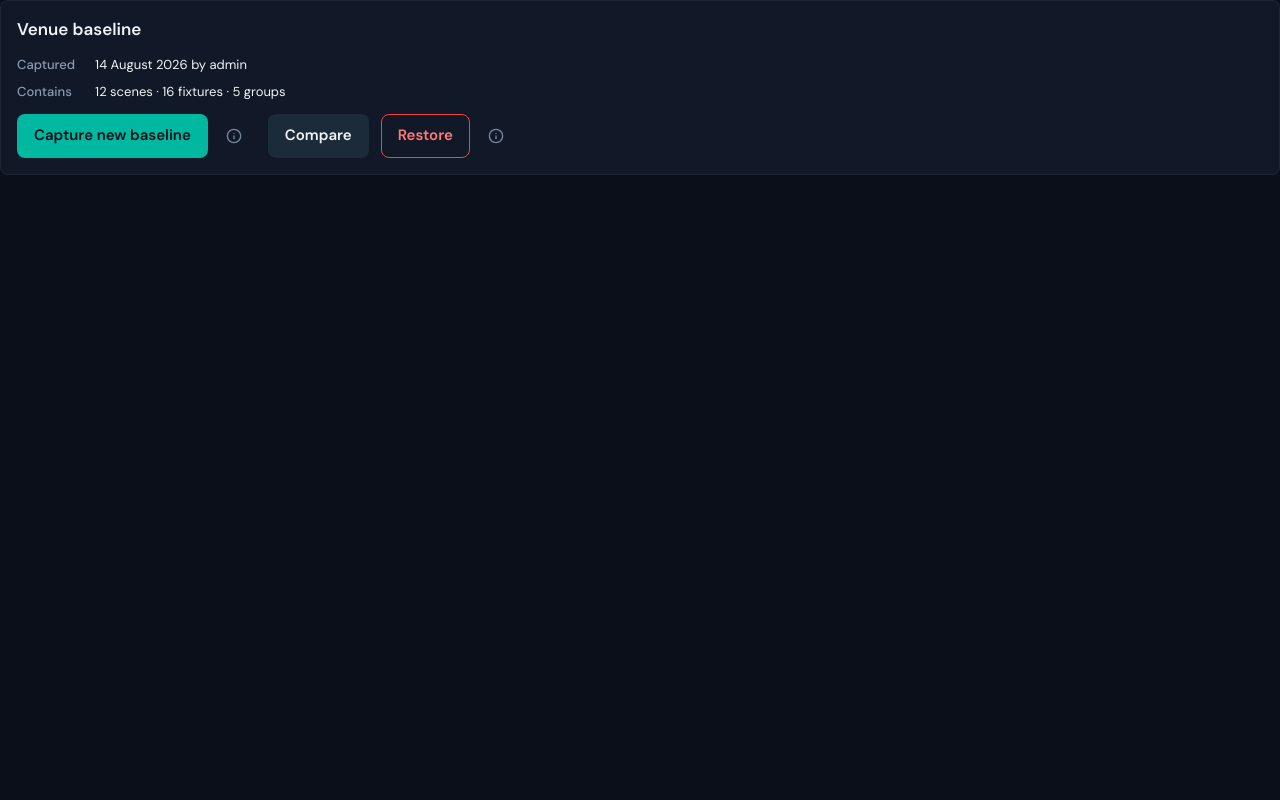
it: BaselineCard — Restore's confirmation and reversibility › explains what it applies and that a snapshot makes it reversible, before doing anything
The width and height of the screenshot is (1280, 800).
Click the button "Restore" at point(425, 136), box x1=381 y1=114 x2=470 y2=158
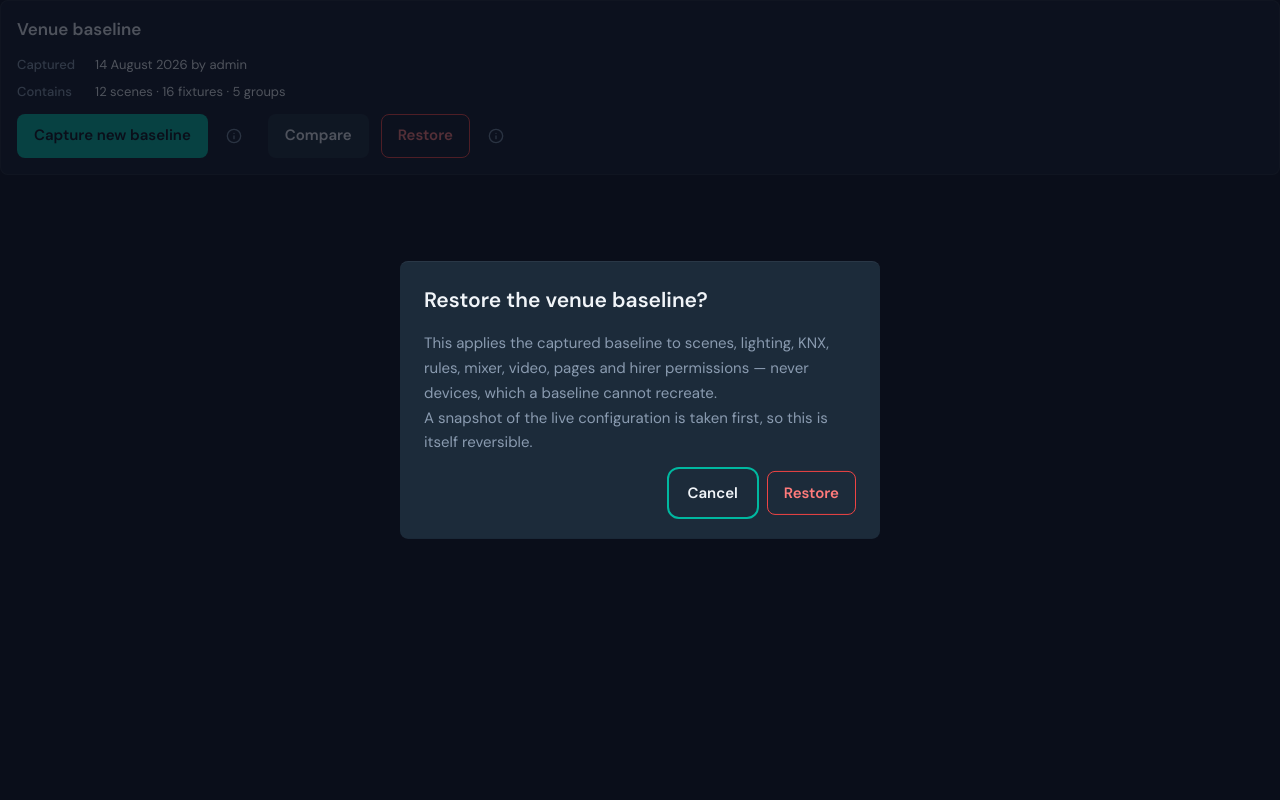
Now the dialog shows "never devices", box x1=424 y1=333 x2=829 y2=403
Now the dialog shows "itself reversible", box x1=424 y1=408 x2=828 y2=452
Click the button "Restore" at point(811, 493), box x1=767 y1=471 x2=856 y2=515
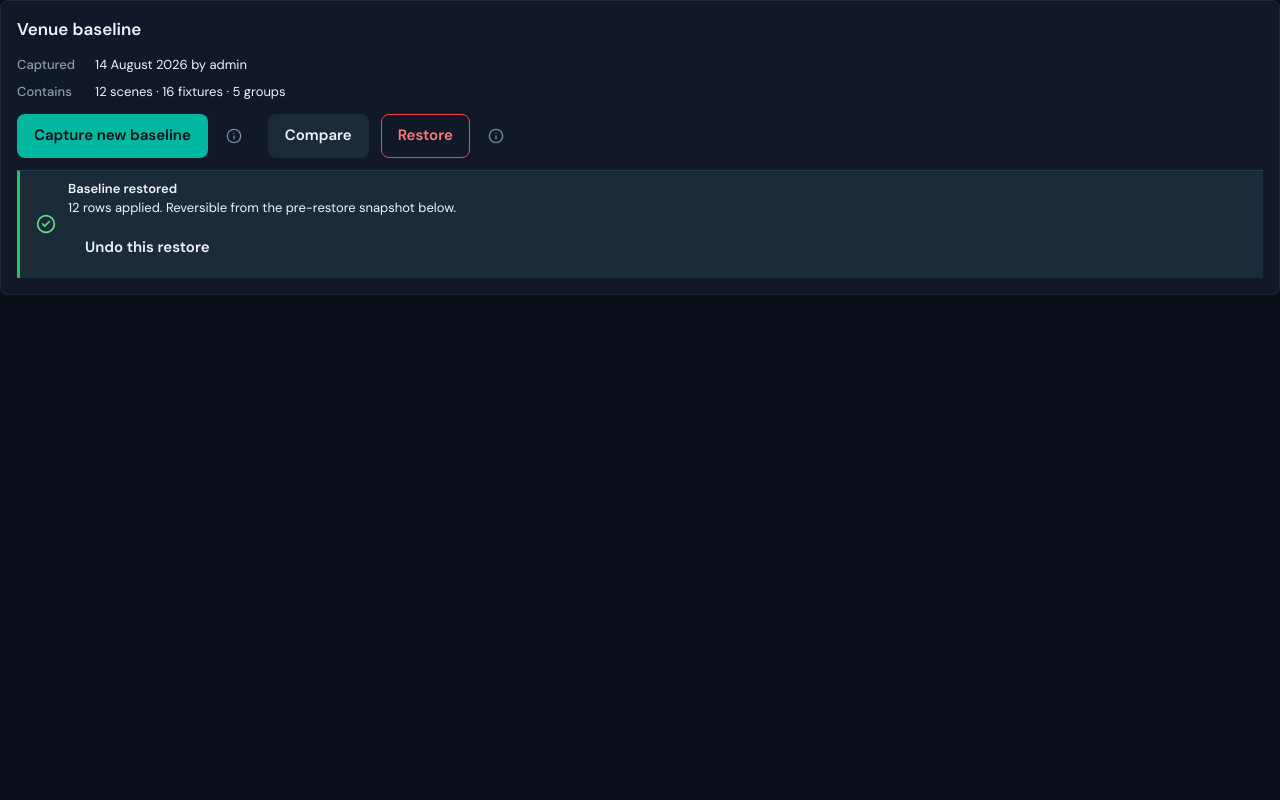
Now the text "Baseline restored" is shown, box x1=68 y1=180 x2=177 y2=196
Now the button "Undo this restore" is shown, box x1=68 y1=226 x2=227 y2=270
